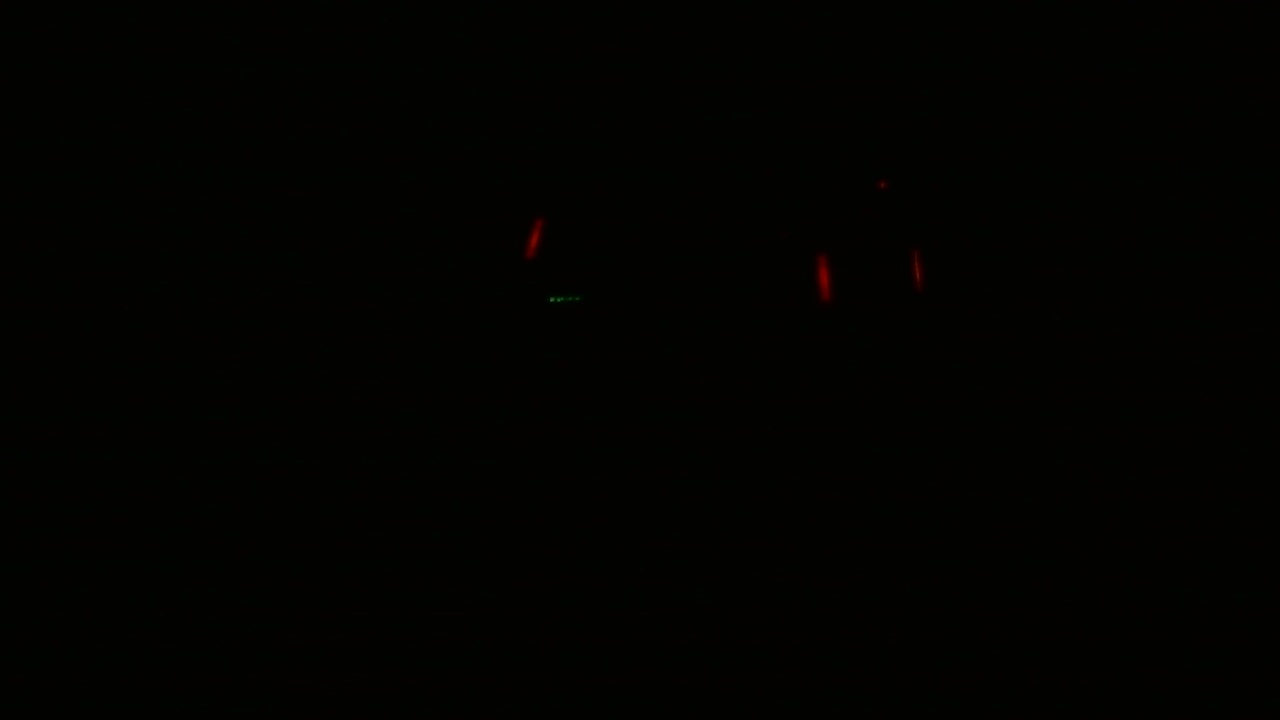pair1: (813, 255, 928, 296)
